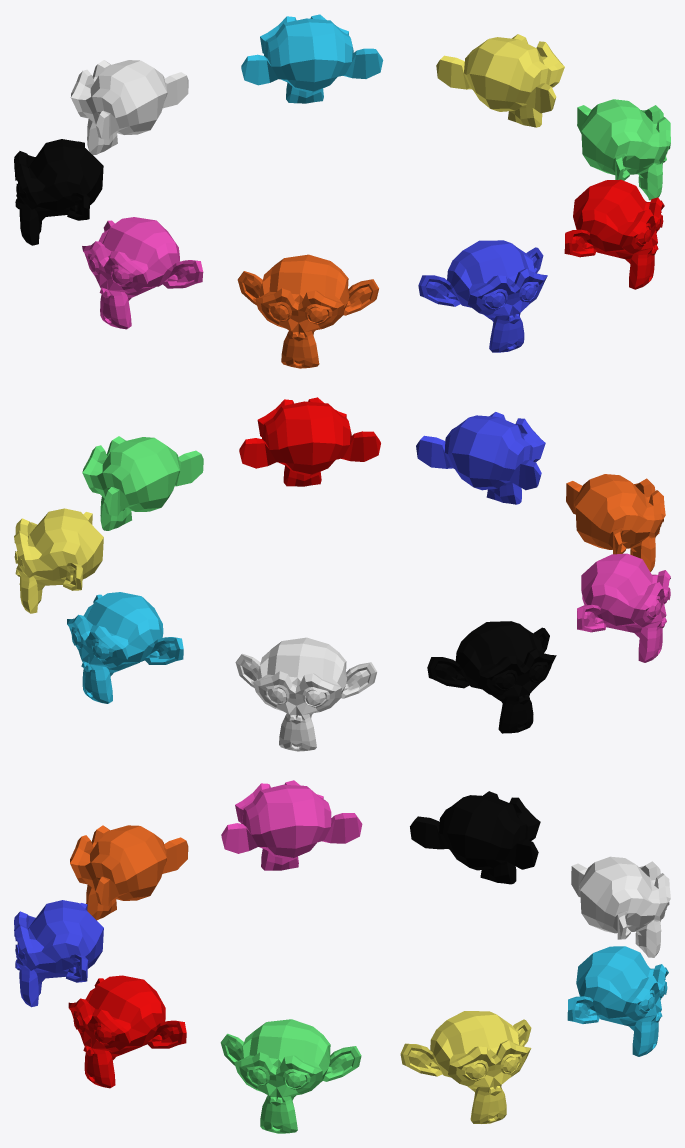
File: monkeys.glb
3 renders of one model, top to bottom at view 1: azimuth 30°, elevation 25°; view 2: azimuth 150°, elevation 25°; view 3: azimuth 270°, elevation 25°, orthographic.
Visible parts, largest first — view 1: Suzanne.009, Suzanne.003, Suzanne.002, Suzanne.008, Suzanne.001, Suzanne, Suzanne.011, Suzanne.010, Suzanne.007; view 2: Suzanne, Suzanne.007, Suzanne.011, Suzanne.003, Suzanne.002, Suzanne.010, Suzanne.008, Suzanne.009, Suzanne.001; view 3: Suzanne.010, Suzanne.001, Suzanne.008, Suzanne.007, Suzanne.011, Suzanne.009, Suzanne.002, Suzanne, Suzanne.003.
Part boxes in pixels (box(x1,y1,x2,y2)): Suzanne.009: box(237, 254, 378, 368); Suzanne.003: box(418, 240, 547, 352); Suzanne.002: box(241, 14, 383, 103); Suzanne.008: box(82, 217, 203, 329); Suzanne.001: box(436, 34, 564, 127); Suzanne: box(70, 60, 188, 154); Suzanne.011: box(564, 179, 664, 289); Suzanne.010: box(577, 99, 670, 200); Suzanne.007: box(14, 139, 103, 245); Suzanne: box(235, 637, 376, 751); Suzanne.007: box(427, 621, 556, 733); Suzanne.011: box(239, 397, 380, 486); Suzanne.003: box(416, 412, 545, 504); Suzanne.002: box(67, 592, 183, 703); Suzanne.010: box(82, 436, 203, 530); Suzanne.008: box(577, 553, 670, 662); Suzanne.009: box(566, 474, 665, 571); Suzanne.001: box(14, 508, 103, 613); Suzanne.010: box(220, 1019, 361, 1133); Suzanne.001: box(400, 1011, 531, 1123); Suzanne.008: box(221, 780, 362, 870); Suzanne.007: box(410, 791, 540, 884); Suzanne.011: box(68, 975, 186, 1088); Suzanne.009: box(70, 825, 188, 920); Suzanne.002: box(567, 946, 668, 1056); Suzanne: box(571, 856, 670, 957); Suzanne.003: box(14, 900, 103, 1007).
Bounding box in the file's own units: 12.53 × 1.97 × 12.44.
